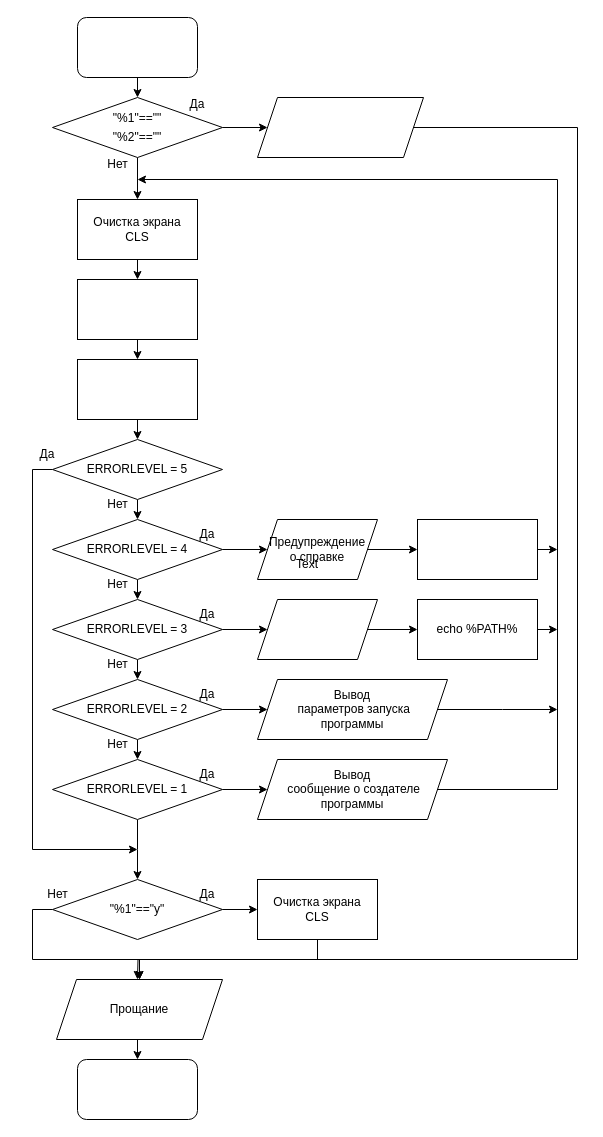
The diagram is 603 pixels wide and 1137 high, and some of its shapes have lost their labels. Here are the shapes that lost their labels. From the top down, the centre of each, then its label:
At [137,47]: "Начало".
At [340,127]: "Пример, как правильно запускать программу".
At [137,309]: "Вывод меню ECHO".
At [137,389]: "Запрос ввода символа CHOICE".
At [477,549]: "type %2".
At [317,629]: "Объяснение команды PATH".
At [137,1089]: "Конец".
